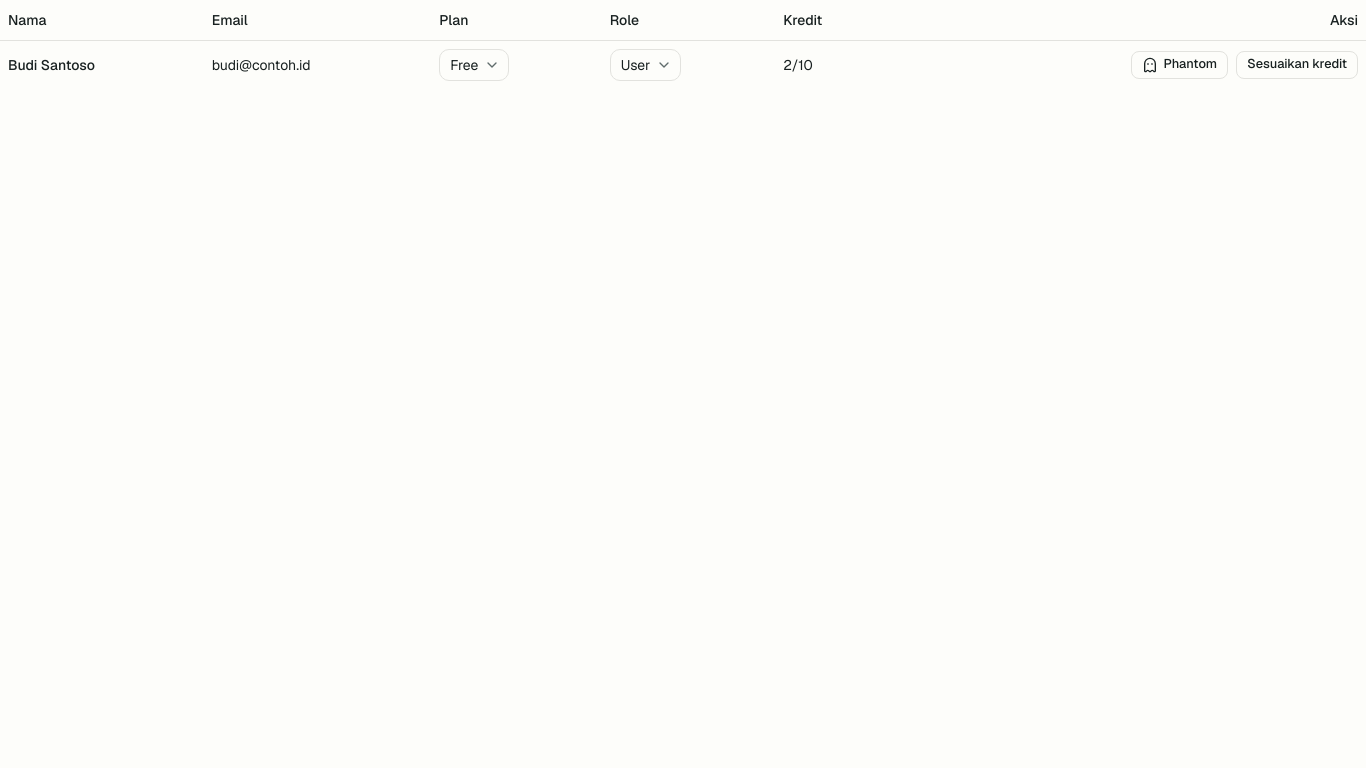
Test: UsersTable › does not submit the credits dialog when reason is empty
Expected: the text "Budi Santoso" is shown, [0,40,204,88]
Step 1. Click the button with aria-label "Sesuaikan kredit untuk Budi Santoso" → (1297, 64), box [1236,50,1358,78]
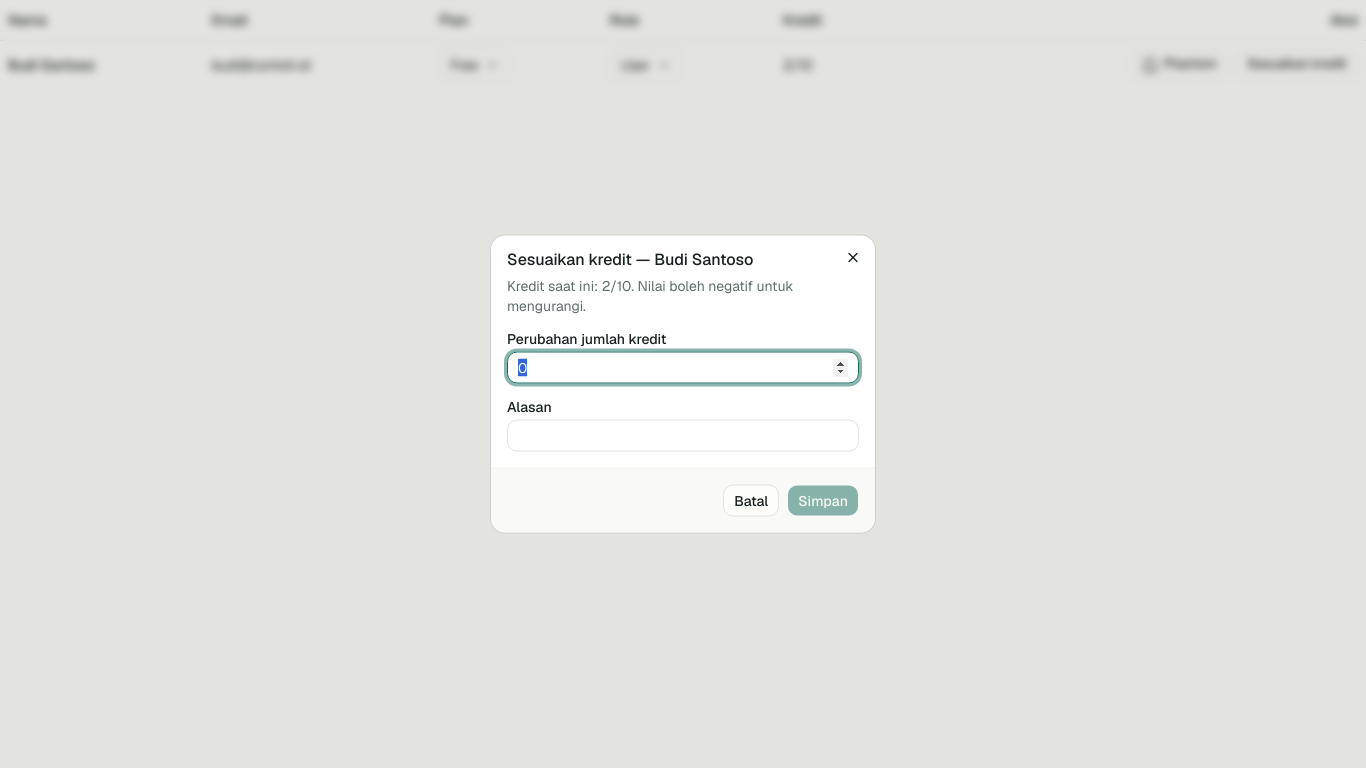
Now the field named "Alasan penyesuaian kredit" is shown, box [507,420,859,452]
Now the button "Simpan" is disabled, box [787,484,859,516]
